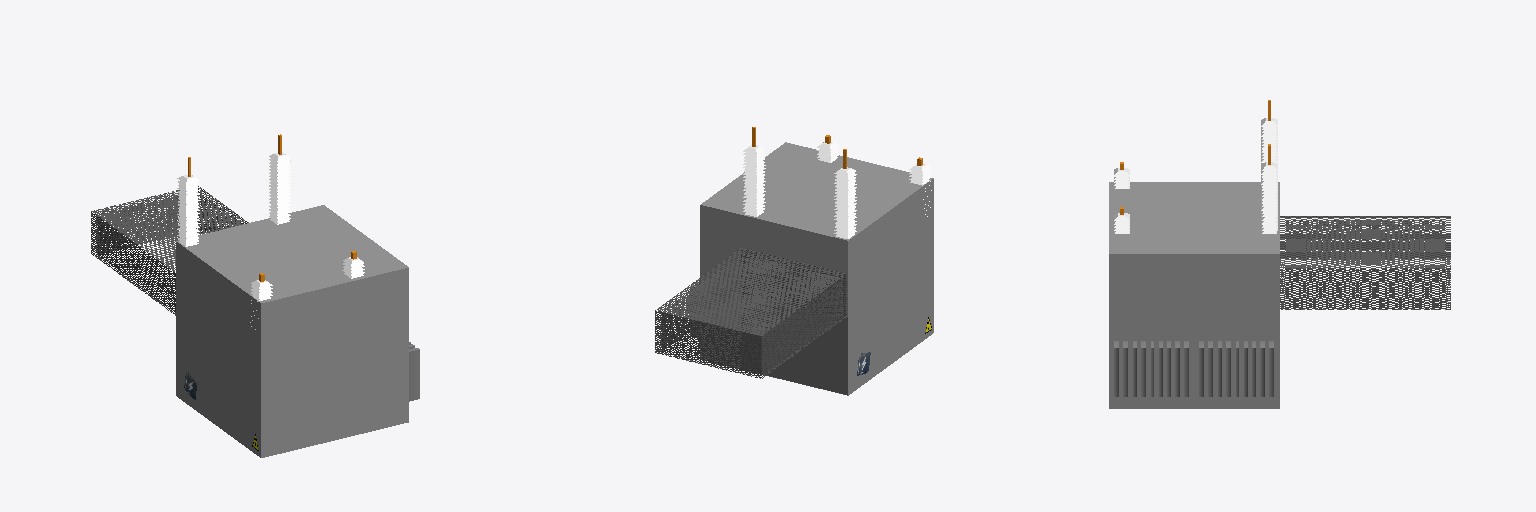
The picture shows the model from 3 angles: view 1: azimuth 30°, elevation 25°; view 2: azimuth 150°, elevation 25°; view 3: azimuth 270°, elevation 25°; orthographic projection.
Parts seen in each view (by area): view 1: Hitbox_Cube.007, Main_Block_Cube, Cube.036_Cube.051, Cube.042_Cube.014, Cube.045_Cube.049, Cooler_Cube.010; view 2: Hitbox_Cube.007, Cube.036_Cube.051, ModelBase_Cube.009, Main_Block_Cube, Cube.045_Cube.049, Cube.042_Cube.014; view 3: Hitbox_Cube.007, Cube.036_Cube.051, Cooler_Cube.010, Cube.042_Cube.014, Cube.045_Cube.049.
Part boxes in pixels (x1,y1,x2,y2): Hitbox_Cube.007: (176, 205, 408, 439); Main_Block_Cube: (218, 350, 334, 457); Cube.036_Cube.051: (91, 186, 248, 315); Cube.042_Cube.014: (269, 152, 291, 224); Cube.045_Cube.049: (177, 175, 199, 246); Cooler_Cube.010: (409, 342, 419, 401); Hitbox_Cube.007: (700, 142, 933, 395); Cube.036_Cube.051: (655, 248, 846, 378); ModelBase_Cube.009: (741, 293, 847, 394); Main_Block_Cube: (891, 256, 933, 363); Cube.045_Cube.049: (834, 167, 856, 238); Cube.042_Cube.014: (743, 145, 765, 216); Hitbox_Cube.007: (1109, 182, 1279, 408); Cube.036_Cube.051: (1280, 216, 1450, 309); Cooler_Cube.010: (1114, 341, 1273, 396); Cube.042_Cube.014: (1261, 162, 1277, 233); Cube.045_Cube.049: (1261, 118, 1277, 163).
Bounding box in the file's own units: 2.18 × 3.1 × 4.
13 materials, 3 textured.